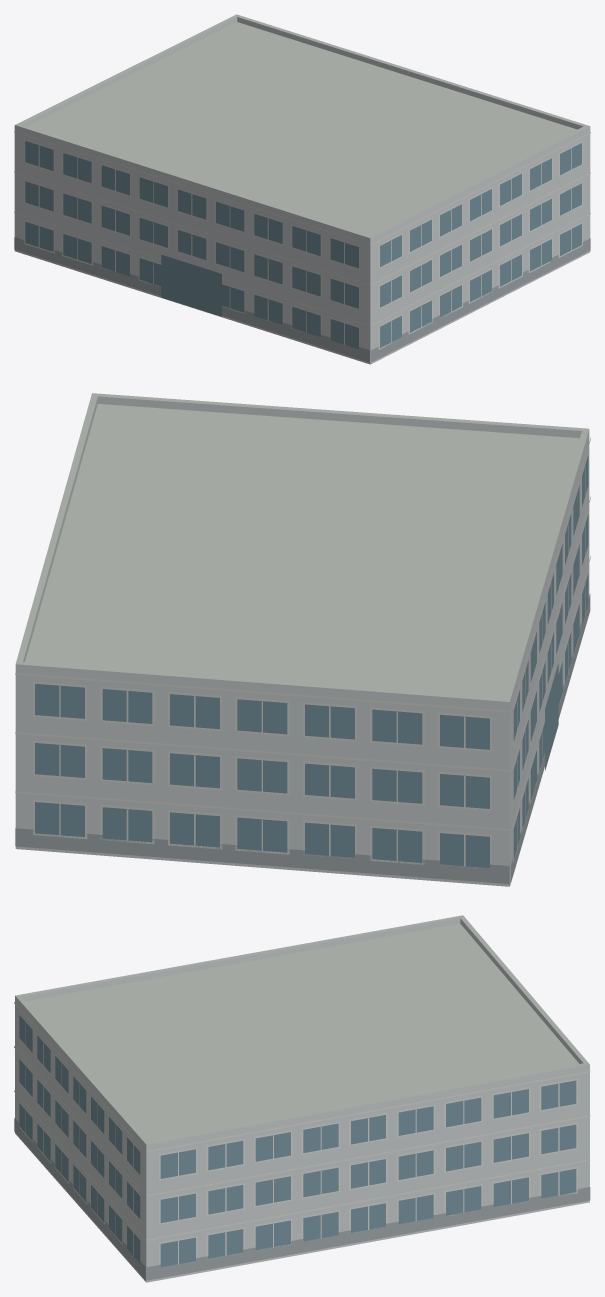
File: public-b58815b2-45c8-430d-ac95-7a5bd9e8e7e3.glb
3 renders of one model, top to bottom at view 1: azimuth 30°, elevation 25°; view 2: azimuth 150°, elevation 25°; view 3: azimuth 270°, elevation 25°, orthographic. The views are drawn at different scales.
Visible parts, largest first — view 1: public-b58815b2-45c8-430d-ac95-7a5bd9e8e7e3; view 2: public-b58815b2-45c8-430d-ac95-7a5bd9e8e7e3; view 3: public-b58815b2-45c8-430d-ac95-7a5bd9e8e7e3.
Part boxes in pixels (bbox=[...]): public-b58815b2-45c8-430d-ac95-7a5bd9e8e7e3: bbox=[14, 14, 590, 364]; public-b58815b2-45c8-430d-ac95-7a5bd9e8e7e3: bbox=[15, 393, 590, 886]; public-b58815b2-45c8-430d-ac95-7a5bd9e8e7e3: bbox=[14, 915, 590, 1282].
Bounding box in the file's own units: 32.77 × 9.15 × 34.67.
